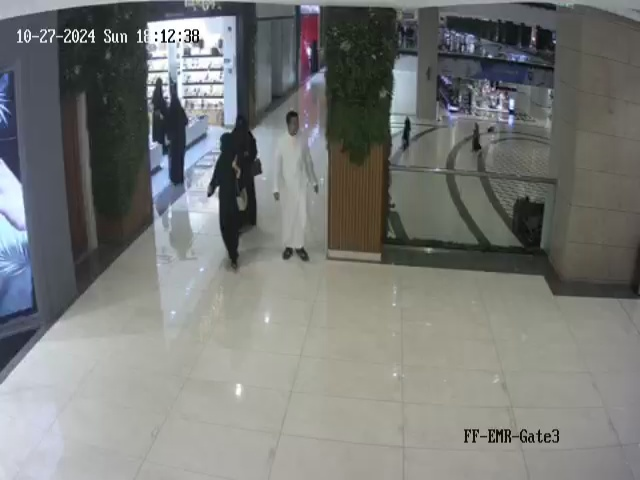female: (206, 132, 246, 271), (231, 115, 262, 234), (162, 80, 188, 186), (147, 72, 171, 149), (397, 112, 414, 160), (469, 118, 484, 157)
male: (272, 111, 320, 262)
